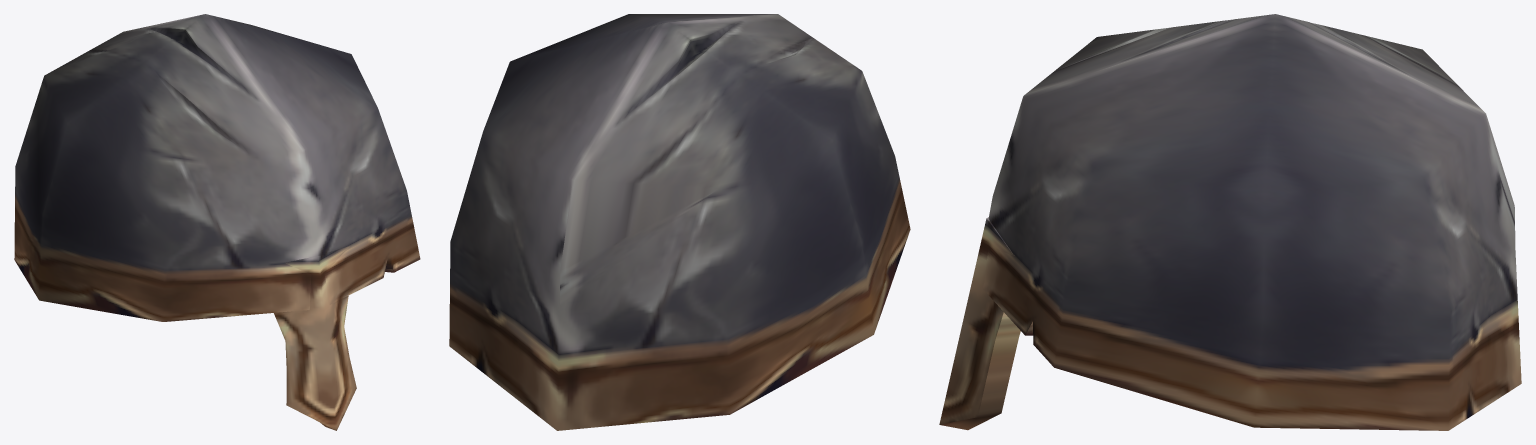
File: Helmet_Grade_02.glb
The picture shows the model from 3 angles, left to right: view 1: azimuth 30°, elevation 25°; view 2: azimuth 150°, elevation 25°; view 3: azimuth 270°, elevation 25°; orthographic projection. The views are drawn at different scales.
Visible parts, largest first — view 1: Helmet_Grade_02; view 2: Helmet_Grade_02; view 3: Helmet_Grade_02.
Part boxes in pixels (x1,y1,x2,y2): Helmet_Grade_02: (14, 14, 420, 430); Helmet_Grade_02: (449, 14, 910, 430); Helmet_Grade_02: (939, 14, 1521, 430).
Size of the model in its own units: 3.46 by 3.08 by 3.91.
Materials: 1 (1 with a texture image).
